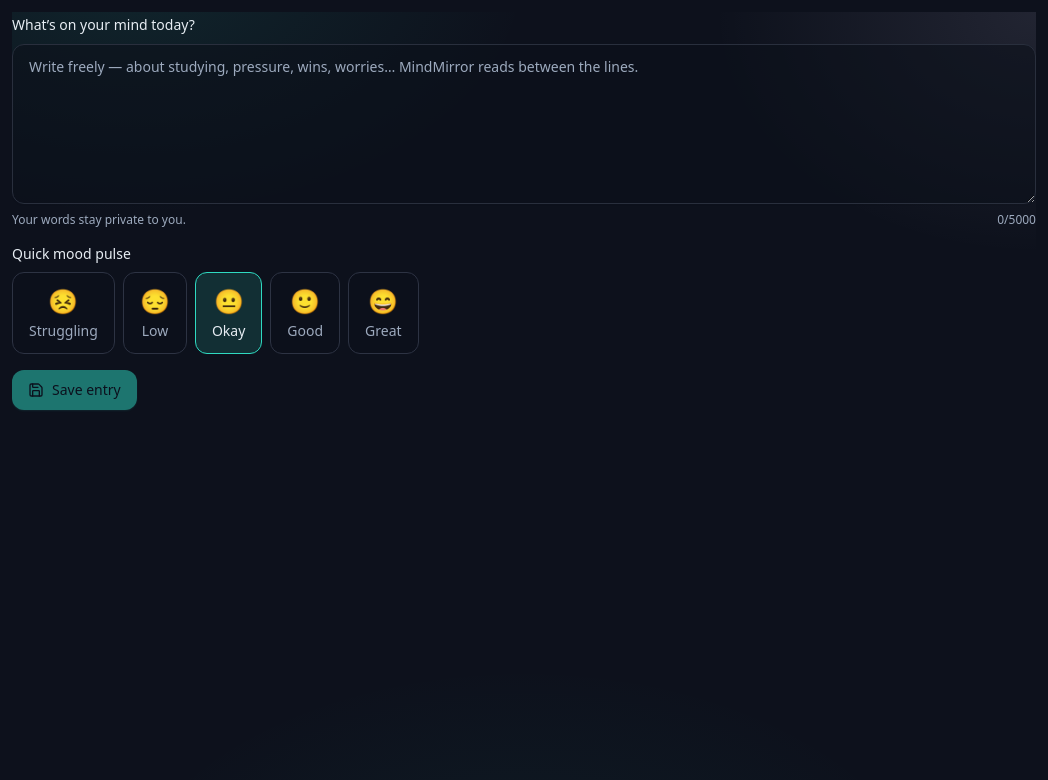
JournalEntryForm › surfaces the crisis banner when acute distress is typed
Type "I want to die, there is no reason to live." into the text box labelled "What’s on your mind today?". click: (524,124)
box: x1=12 y1=44 x2=1036 y2=204
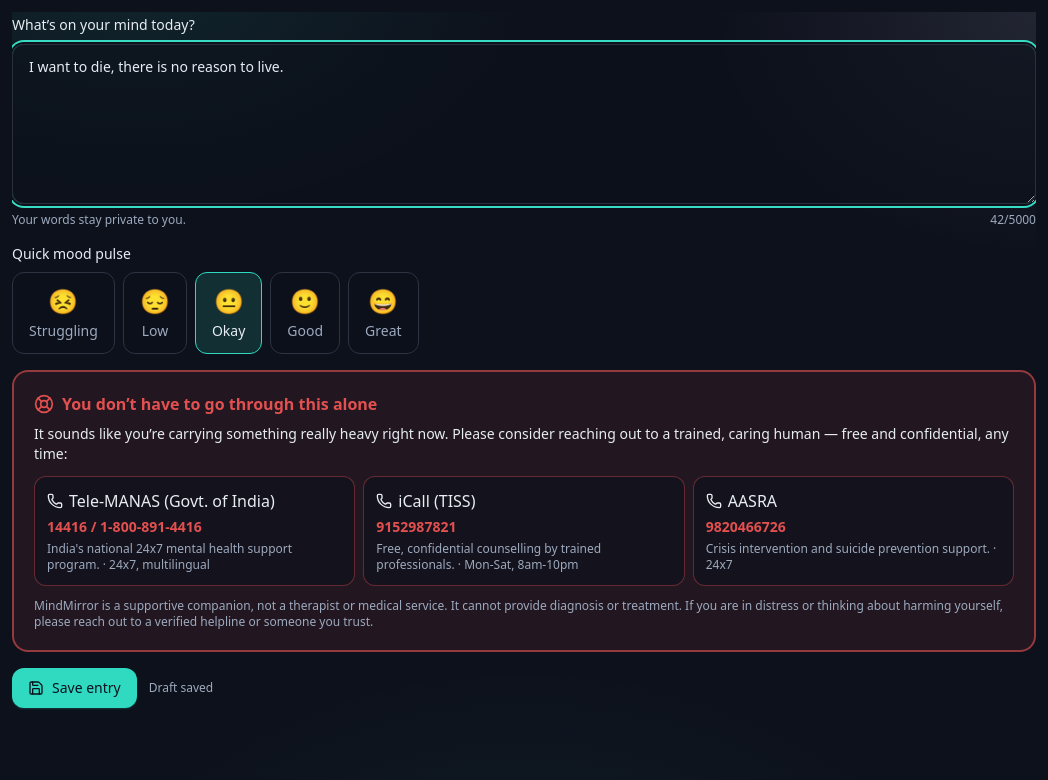
Expected: the message named "Crisis support" is shown, x1=12 y1=370 x2=1036 y2=652
Expected: the text "14416 / 1-800-891-4416" is shown, x1=47 y1=517 x2=202 y2=536
